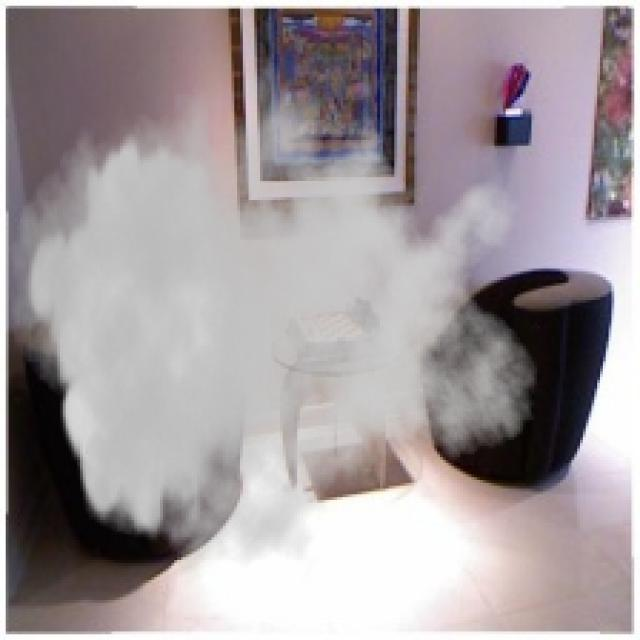smoke: (9, 29, 540, 592)
